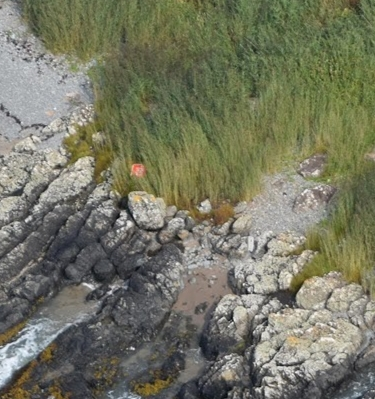white_in_green: (109, 144, 164, 197)
